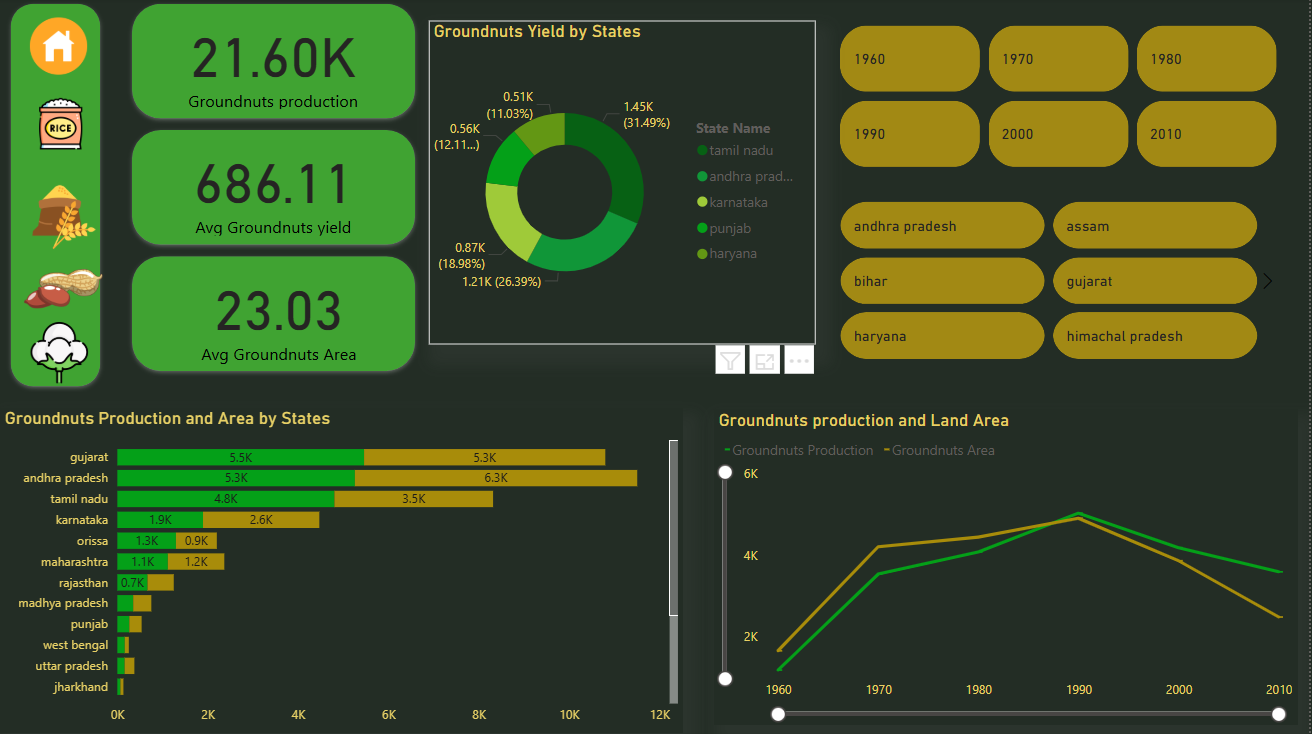

The dashboard page shown, as its layout file describes it:
{"tool":"powerbi","page":{"name":"Groundnuts","canvas":[1280,720],"ordinal":3},"visuals":[{"type":"shape","box":[123.8,0,288.2,123.5],"z":0},{"type":"card","title":"RIce Production","fields":{"Values":["Gn Measure.Total_gnproduction"]},"box":[147.1,11,241.5,102.9],"z":1000},{"type":"advancedSlicerVisual","fields":{"Values":["rain-agriculture.Year group (bins)"]},"box":[816.5,22,439.1,149.6],"z":2000},{"type":"advancedSlicerVisual","fields":{"Values":["rain-agriculture.State Name"]},"box":[797.3,194.9,458.3,164.7],"z":3000},{"type":"shape","box":[123.8,123.5,288.2,123.5],"z":4000},{"type":"shape","box":[123.8,247,288.2,123.5],"z":5000},{"type":"lineChart","title":"Groundnuts production and Land Area ","fields":{"Category":["rain-agriculture.Year group (bins)"],"Y":["Sum(rain-agriculture.GROUNDNUT PRODUCTION (1000 tons))","Sum(rain-agriculture.GROUNDNUT AREA (1000 ha))"]},"box":[698.5,402.1,570.8,308.7],"z":6000},{"type":"card","fields":{"Values":["Gn Measure.Avg_gnyield"]},"box":[123.8,133.1,288.2,104.3],"z":7000},{"type":"shape","box":[5.5,0,98.8,385.6],"z":8000},{"type":"donutChart","title":" Groundnuts Yield by States","fields":{"Category":["rain-agriculture.State Name"],"Y":["Gn Measure.Avg_gnyield"]},"box":[419.9,22,377.4,317],"z":9000},{"type":"image","box":[28.8,93.3,60.4,60.4],"z":10000},{"type":"image","box":[20.6,171.5,83.7,85.1],"z":11000},{"type":"image","box":[15.1,237.4,94.7,94.7],"z":12000},{"type":"image","box":[23.3,308.7,70,78.2],"z":13000},{"type":"barChart","title":"Groundnuts Production and  Area by States","fields":{"Category":["rain-agriculture.State Name"],"Y":["Sum(rain-agriculture.GROUNDNUT PRODUCTION (1000 tons))","Sum(rain-agriculture.GROUNDNUT AREA (1000 ha))"]},"box":[0,401.6,668.3,318.4],"z":14000},{"type":"image","box":[24.7,11,65.9,71.4],"z":15000},{"type":"card","fields":{"Values":["Gn Measure.Avg_gnArea"]},"box":[123.5,248.4,299.1,122.1],"z":16000}]}

Visuals, with their boxes in screenshot pixels (x1, y1, x2, y2), scaled from the page's 1280x720 canvas onto the 1312x734 screenshot:
shape: 127/0/422/126
"RIce Production" card: 151/11/398/116
advancedSlicerVisual - rain-agriculture.Year group (bins): 837/22/1287/175
advancedSlicerVisual - rain-agriculture.State Name: 817/199/1287/367
shape: 127/126/422/252
shape: 127/252/422/378
"Groundnuts production and Land Area " lineChart: 716/410/1301/725
card - Gn Measure.Avg_gnyield: 127/136/422/242
shape: 6/0/107/393
" Groundnuts Yield by States" donutChart: 430/22/817/346
image: 30/95/91/157
image: 21/175/107/262
image: 15/242/113/339
image: 24/315/96/394
"Groundnuts Production and  Area by States" barChart: 0/409/685/733
image: 25/11/93/84
card - Gn Measure.Avg_gnArea: 127/253/433/378
